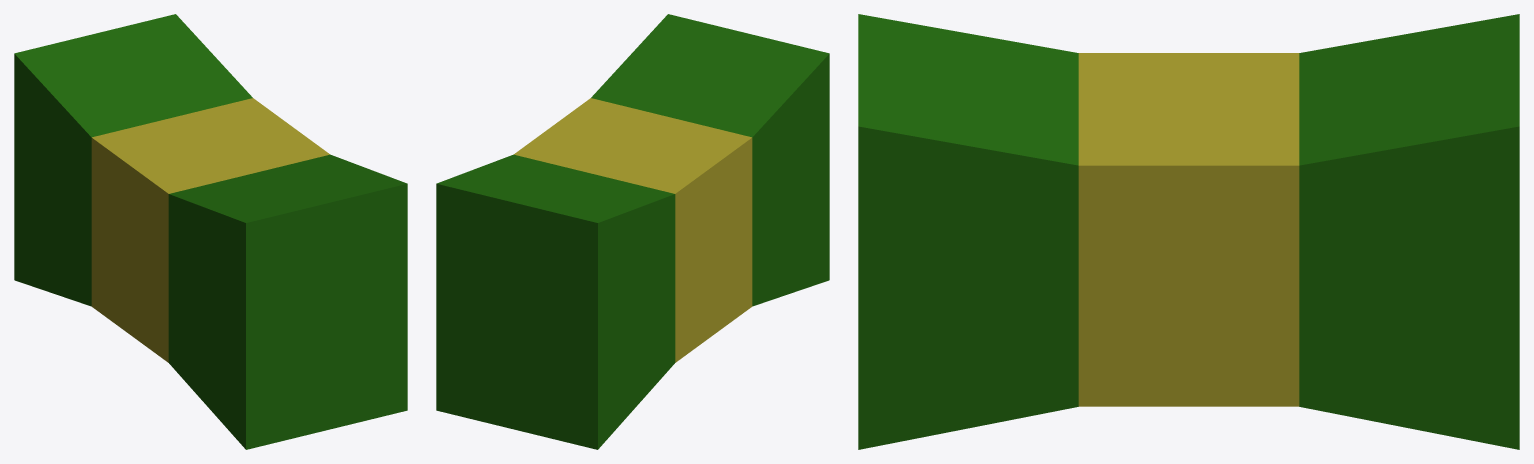
The model's file is Money.fbx.
3 views of the same model, side by side, from view 1: azimuth 30°, elevation 25°; view 2: azimuth 150°, elevation 25°; view 3: azimuth 270°, elevation 25° (orthographic). The views are drawn at different scales.
Parts seen in each view (by area): view 1: Cube.014; view 2: Cube.014; view 3: Cube.014.
Boxes of the visible parts, box(x1,y1,x2,y2) form: Cube.014: box(14, 14, 407, 449); Cube.014: box(436, 14, 829, 449); Cube.014: box(858, 14, 1519, 449).
Bounding box in the file's own units: 111 × 149 × 277.
